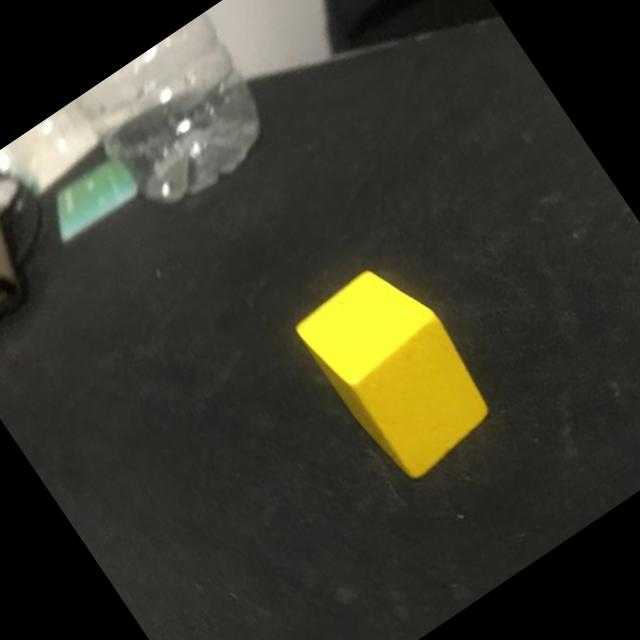yellow: (288, 251, 506, 488)
